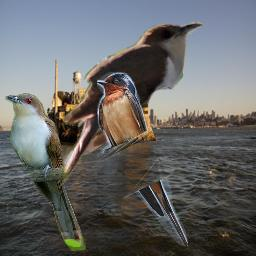Cuckoo: (58, 20, 203, 193), (5, 93, 86, 251)
Swallow: (97, 72, 188, 246)
